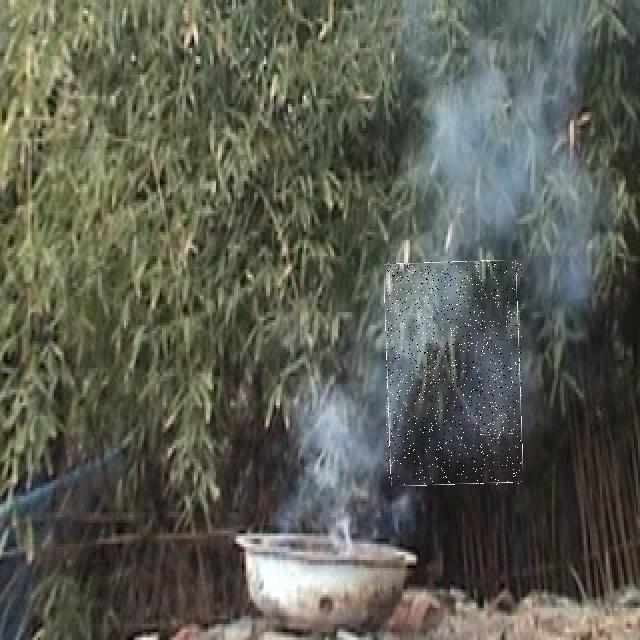smoke: (386, 261, 522, 485)
